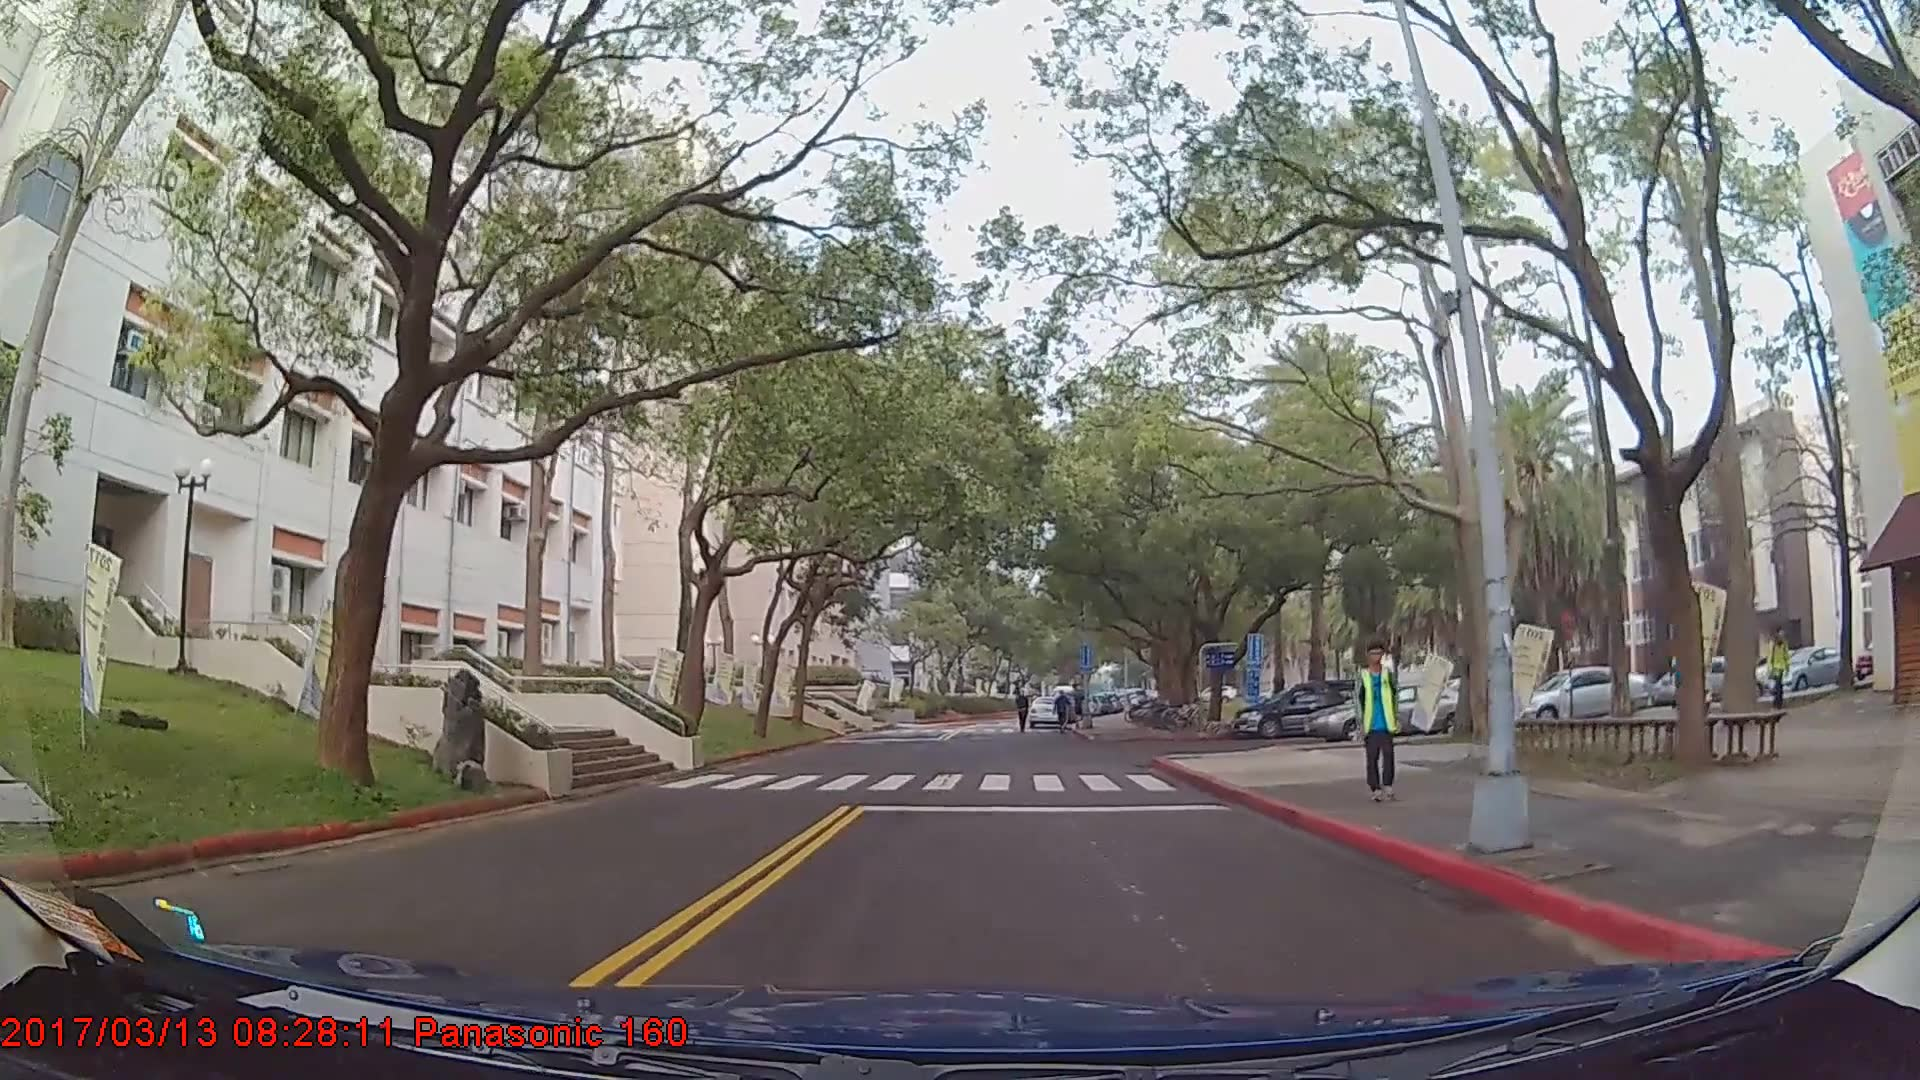pedestrian: (1352, 638, 1403, 799), (1770, 627, 1793, 715), (1054, 687, 1074, 732)
vehicle: (1312, 677, 1479, 739), (1508, 665, 1650, 728), (1234, 679, 1367, 736), (1759, 643, 1851, 693), (1026, 692, 1067, 728)
